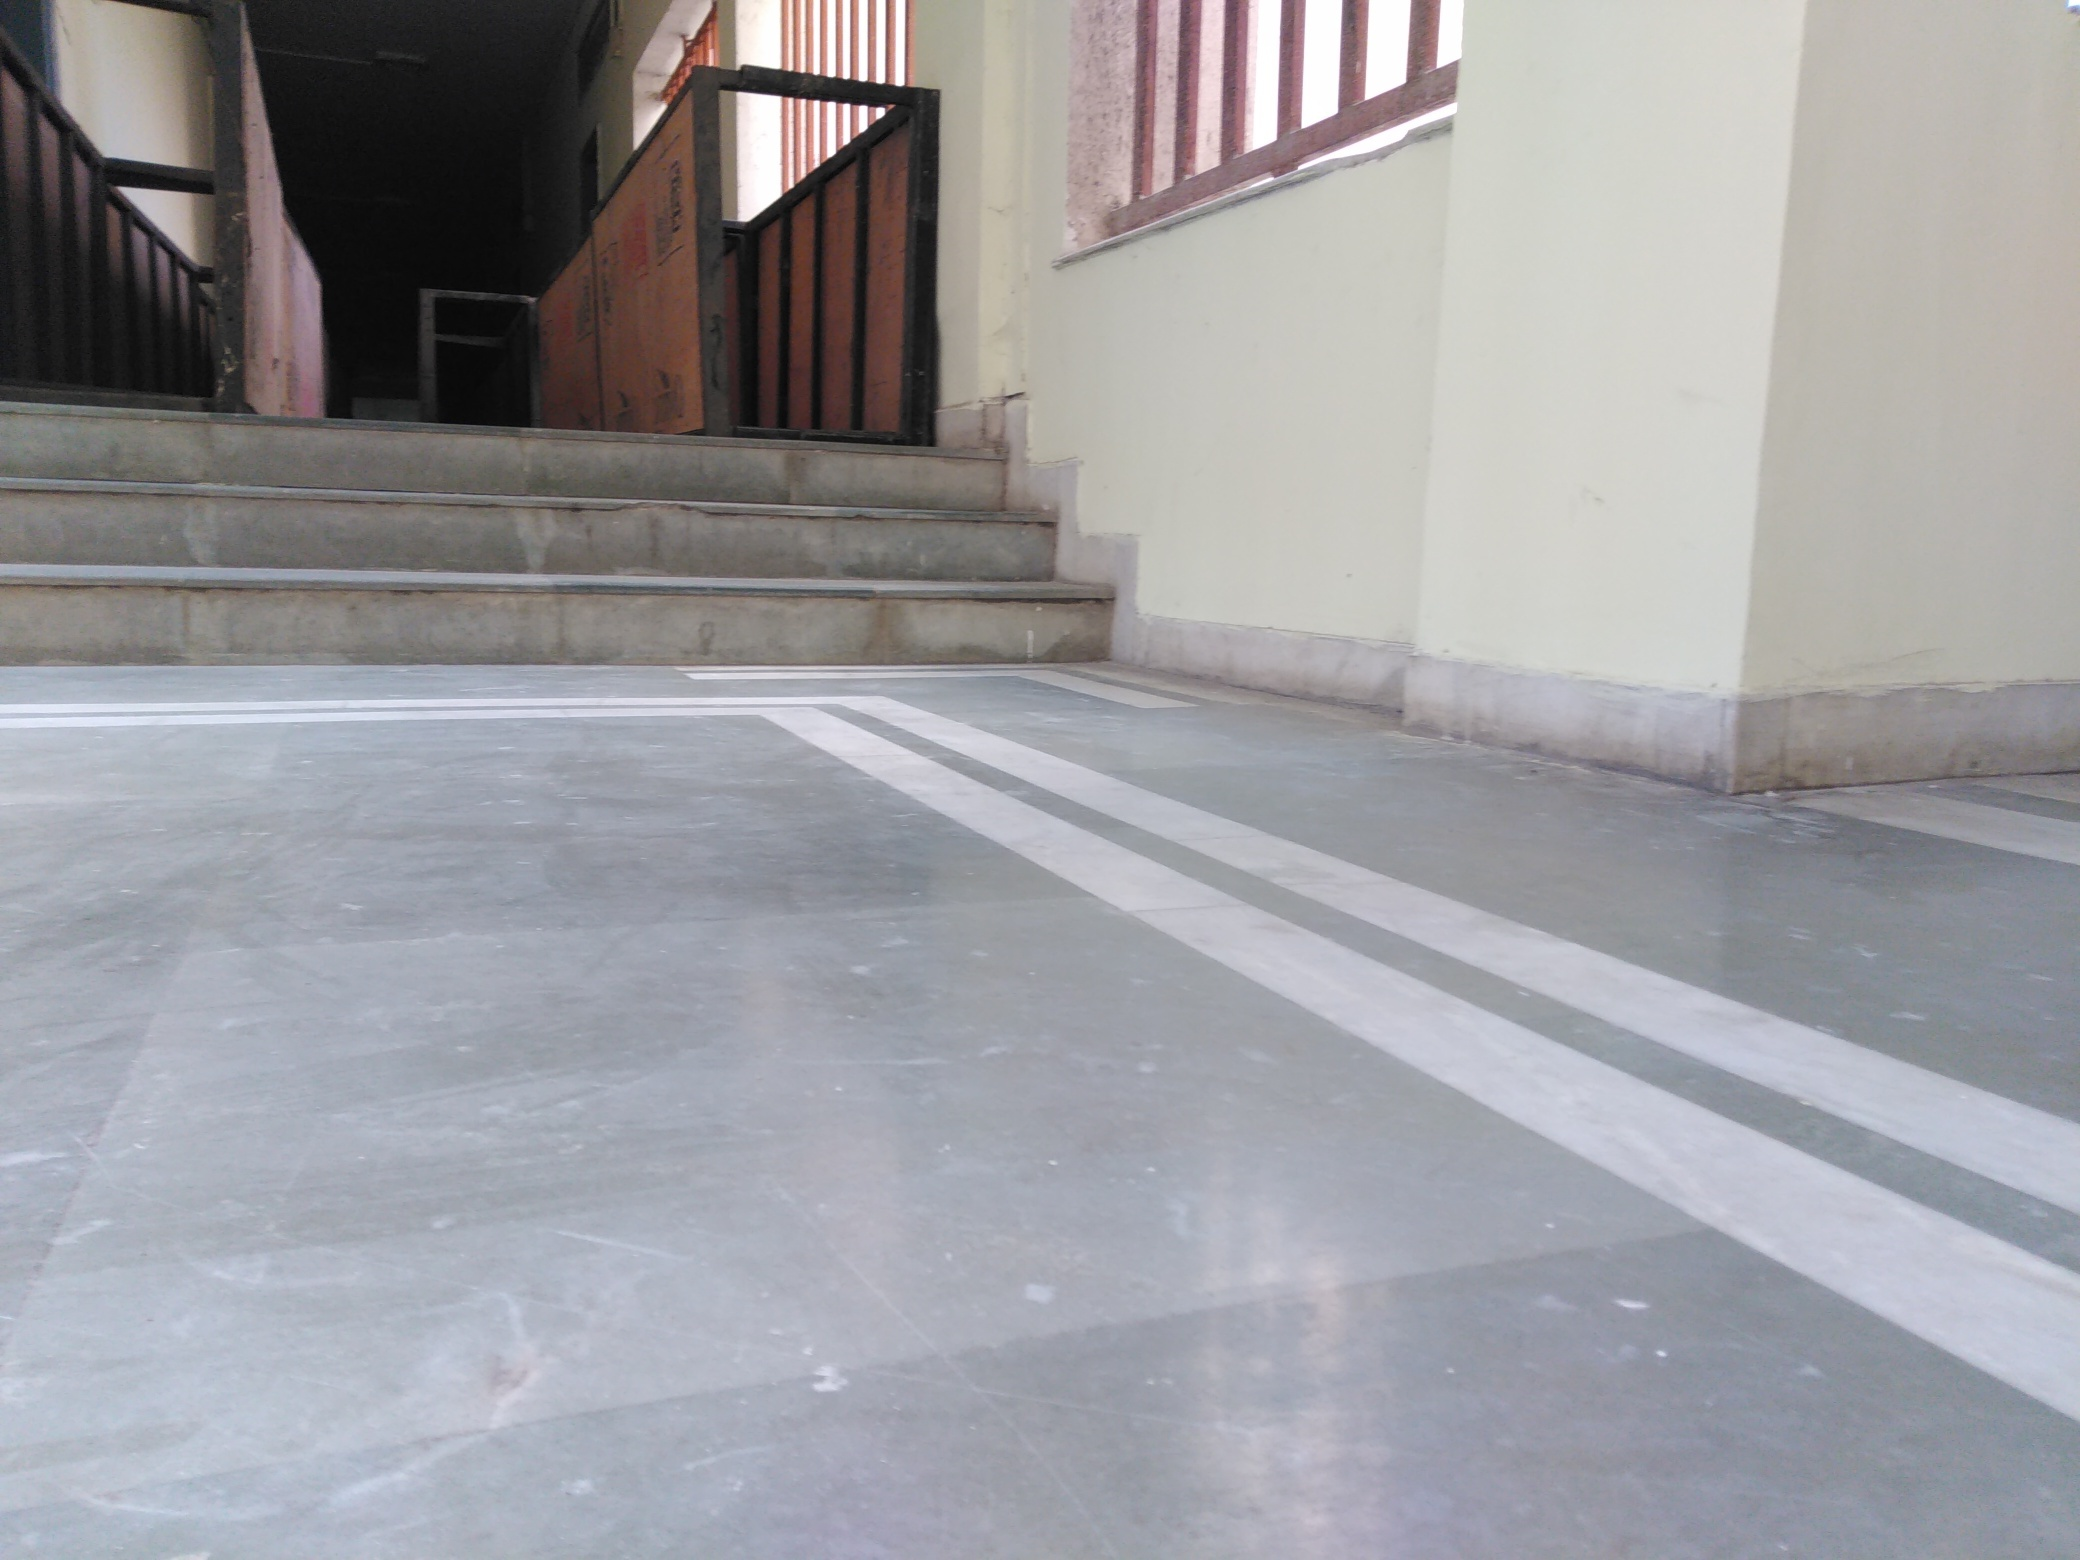stairs_up: (2, 387, 1127, 660)
